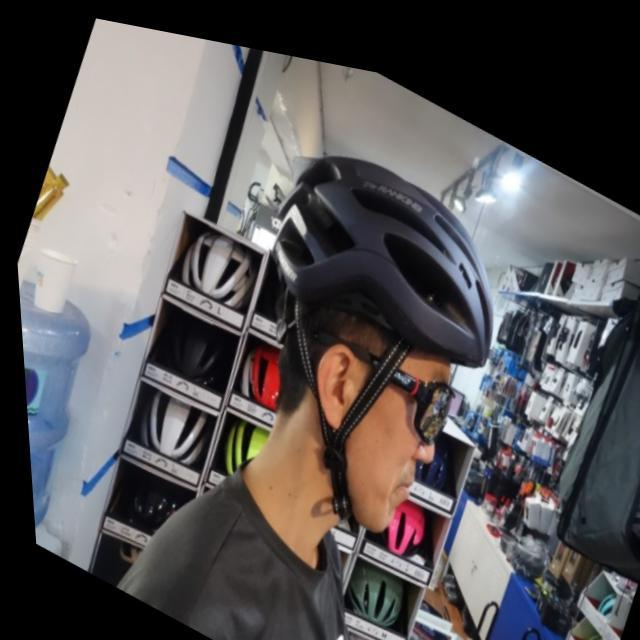Helmet: (255, 132, 496, 534)
